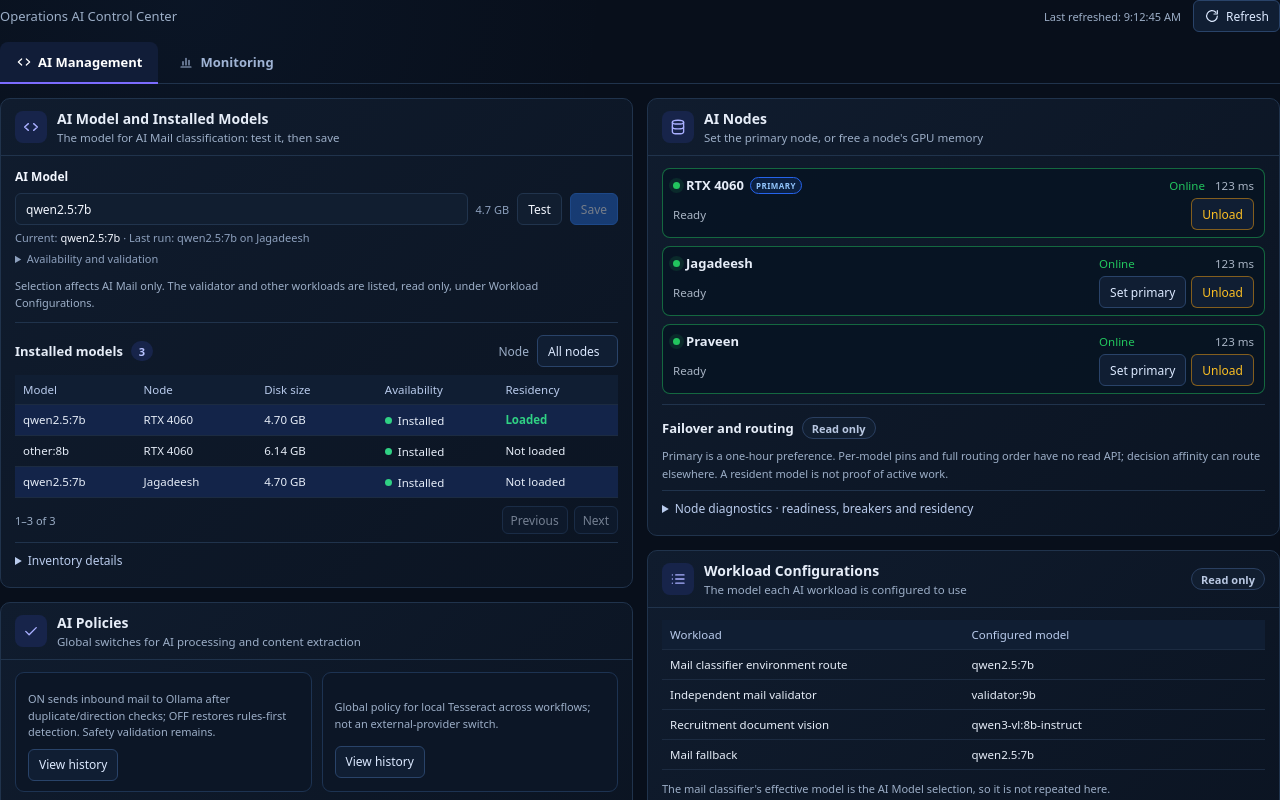
Test: AI Controls: two tabs › uses existing read APIs without running inference or mutations on load
Expected: the text "Last run: qwen2.5:7b on Jagadeesh" is shown, [129, 230, 310, 245]
Expected: the text "4.7 GB" is shown, [476, 202, 509, 216]
Click the button "Monitoring".
click(226, 63)  # box [162, 42, 290, 84]
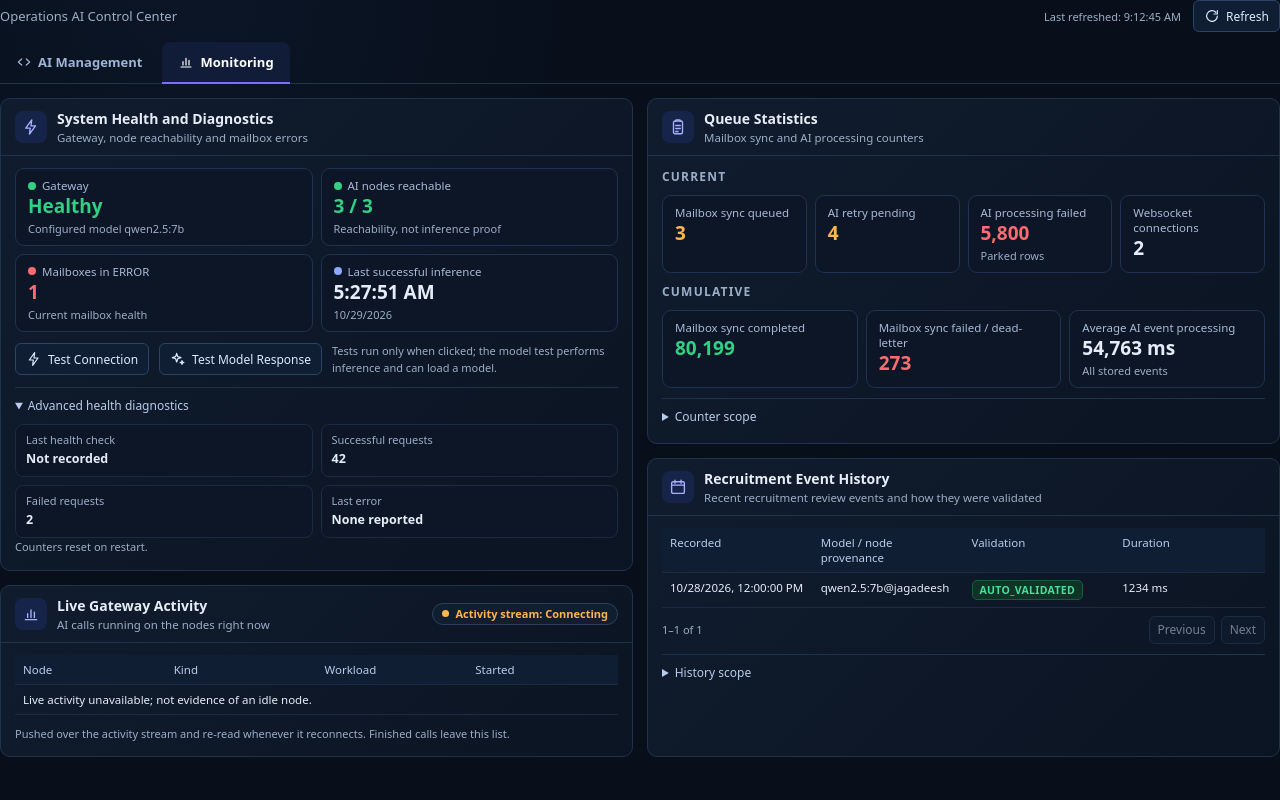
Expected: the text "3 / 3" is shown, [334, 193, 373, 219]
